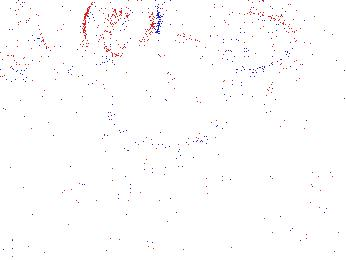moon jellyfish: (103, 34, 234, 147), (205, 12, 298, 70), (83, 1, 159, 69), (266, 52, 346, 108), (1, 1, 48, 81)
